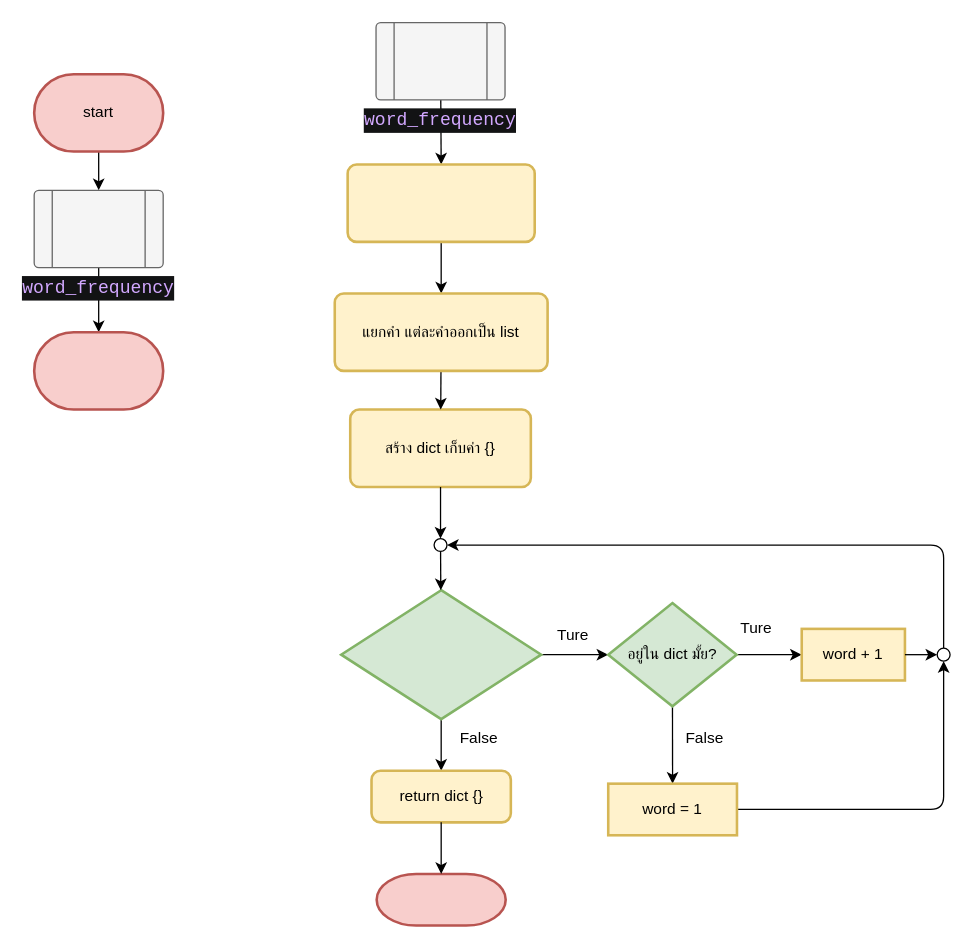
Image size: 977x949. Some labels were removed from this diagram. The box of each missing label's shape, as (x1, y1, x2, y2) in pixels:
end: (32, 330, 164, 410)
more list?: (339, 588, 542, 720)
stop: (375, 872, 506, 926)
ปรับให้เป็นตัวเล็กทั้งหมด: (346, 163, 535, 243)
